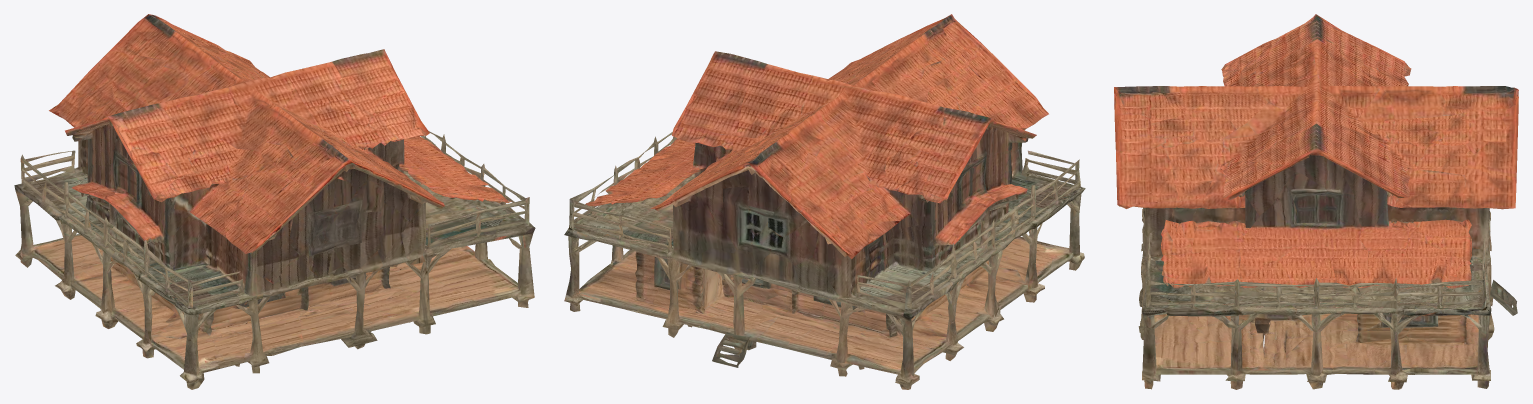
File: bq_rural_house.mid.glb
3 renders of one model, left to right at view 1: azimuth 30°, elevation 25°; view 2: azimuth 150°, elevation 25°; view 3: azimuth 270°, elevation 25°, orthographic.
Parts seen in each view (by area): view 1: mesh_node; view 2: mesh_node; view 3: mesh_node.
Part boxes in pixels (bbox=[...]): mesh_node: bbox=[14, 14, 535, 389]; mesh_node: bbox=[564, 14, 1085, 389]; mesh_node: bbox=[1114, 14, 1518, 389].
Size of the model in its own units: 1.9 by 1.11 by 1.89.
1 material, 1 textured.
